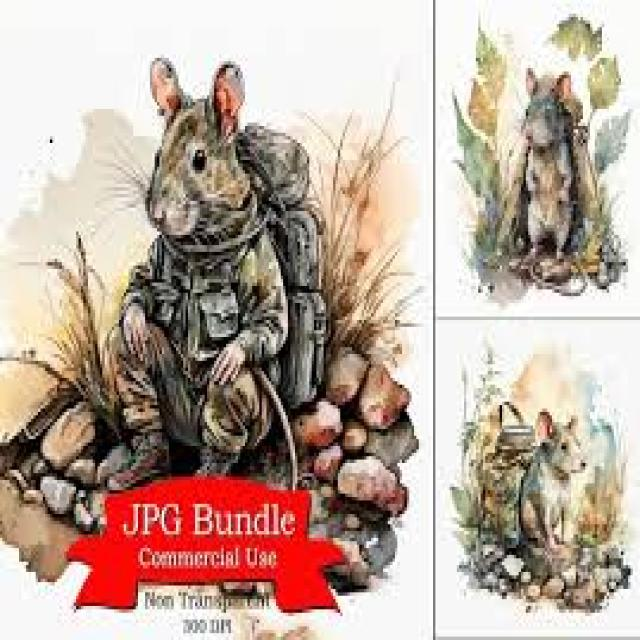rat: (100, 51, 326, 487), (509, 61, 607, 279)
